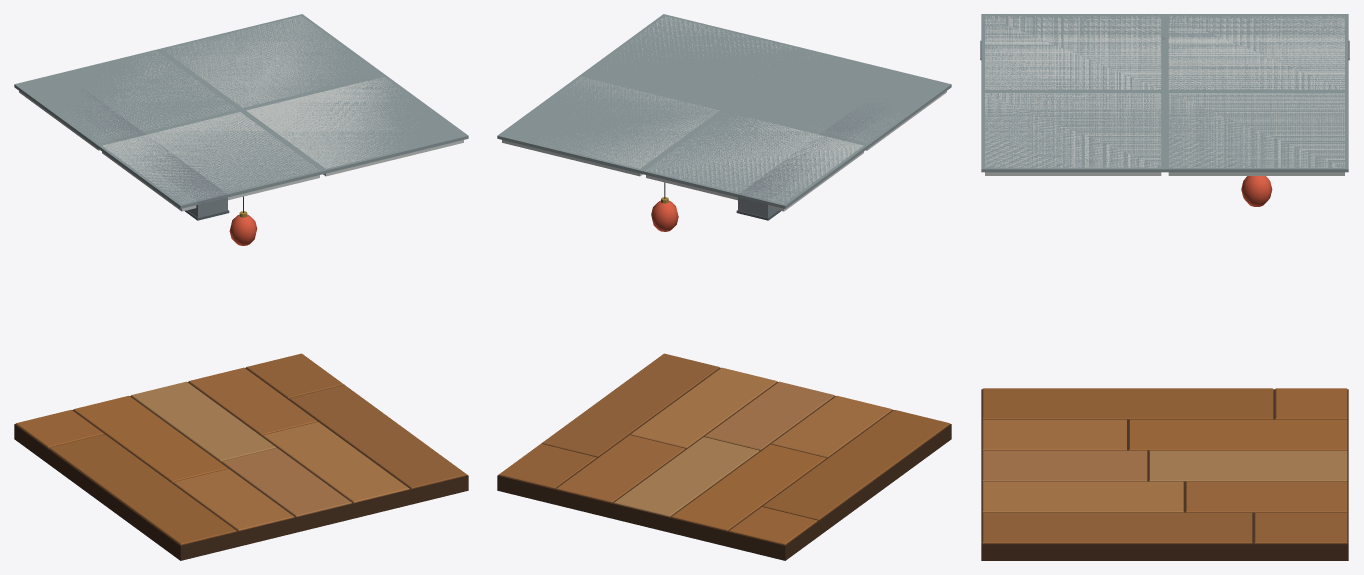
Rendered from floor_b.fbx.
The picture shows the model from 3 angles, left to right: view 1: azimuth 30°, elevation 25°; view 2: azimuth 150°, elevation 25°; view 3: azimuth 270°, elevation 25°; orthographic projection. The views are drawn at different scales.
Parts seen in each view (by area): view 1: floor_b, Ceiling; view 2: floor_b, Ceiling; view 3: floor_b, Ceiling.
Part boxes in pixels (bbox=[...]): floor_b: bbox=[14, 353, 468, 560]; Ceiling: bbox=[14, 14, 468, 245]; floor_b: bbox=[497, 353, 951, 560]; Ceiling: bbox=[497, 14, 951, 231]; floor_b: bbox=[981, 388, 1348, 560]; Ceiling: bbox=[980, 14, 1349, 206].
Bounding box in the file's own units: 4 × 4.71 × 4.02.
